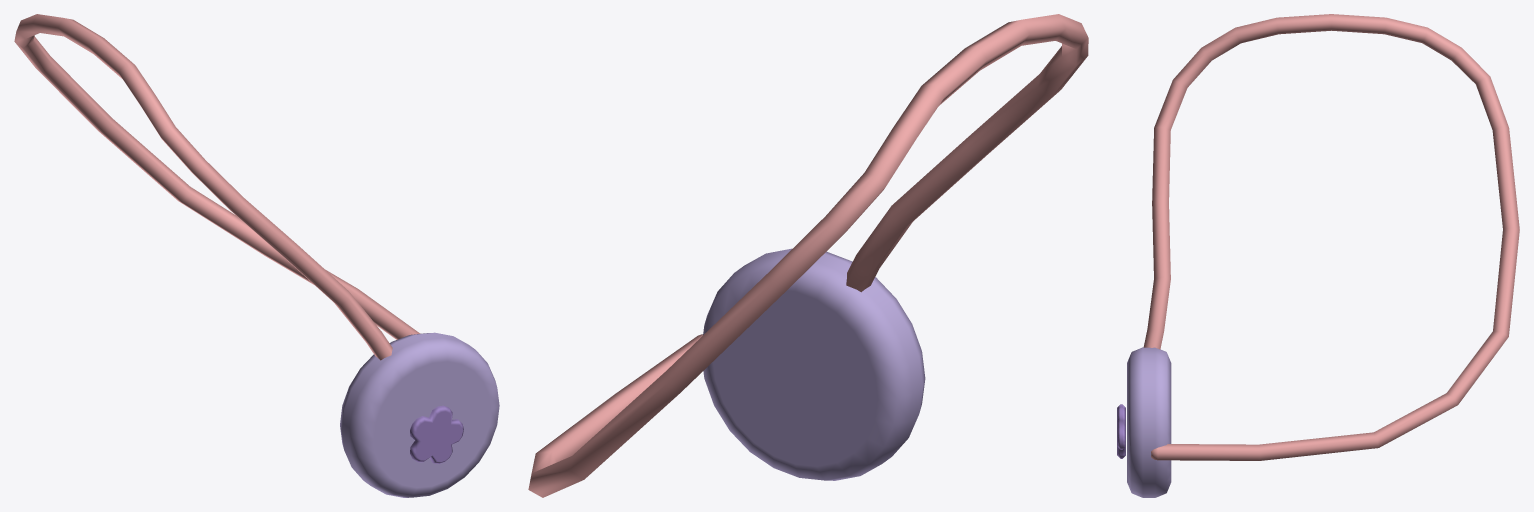
Rendered from beaded_clasp_purse.glb.
3 renders of one model, left to right at view 1: azimuth 30°, elevation 25°; view 2: azimuth 150°, elevation 25°; view 3: azimuth 270°, elevation 25°, orthographic. The views are drawn at different scales.
Parts seen in each view (by area): view 1: beaded_clasp_purse_Body; view 2: beaded_clasp_purse_Body; view 3: beaded_clasp_purse_Body.
Boxes of the visible parts, <box> form: beaded_clasp_purse_Body: <box>14,14,499,497</box>; beaded_clasp_purse_Body: <box>528,14,1088,497</box>; beaded_clasp_purse_Body: <box>1117,14,1519,497</box>.
Bounding box in the file's own units: 0.3533 × 0.4741 × 0.4526.
